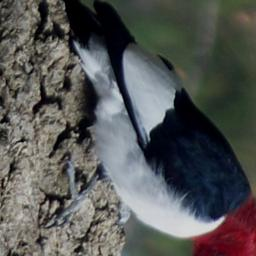Woodpecker: (33, 0, 256, 256)
